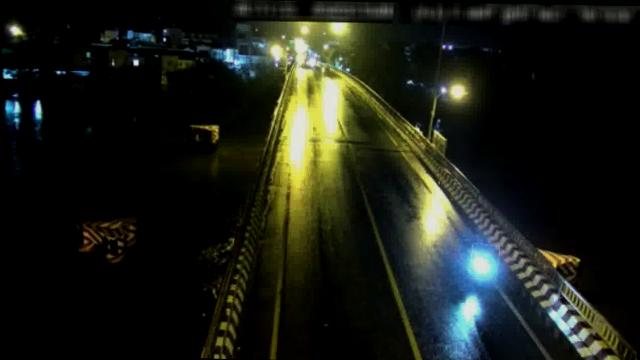Bike: (470, 243, 500, 280)
